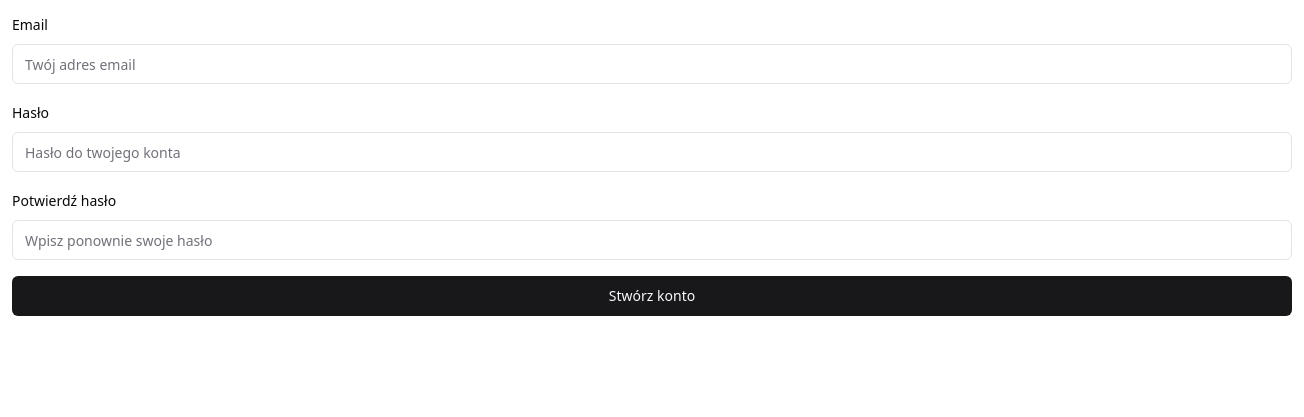
Test: SignUpForm › should display EMAIL_INVALID_MESSAGE if the user submitted form with an invalid email
This screenshot has width=1304, height=417.
Type "invalid_email@d" into the field with test id "email-input" at (652, 64), box [12, 44, 1292, 84]
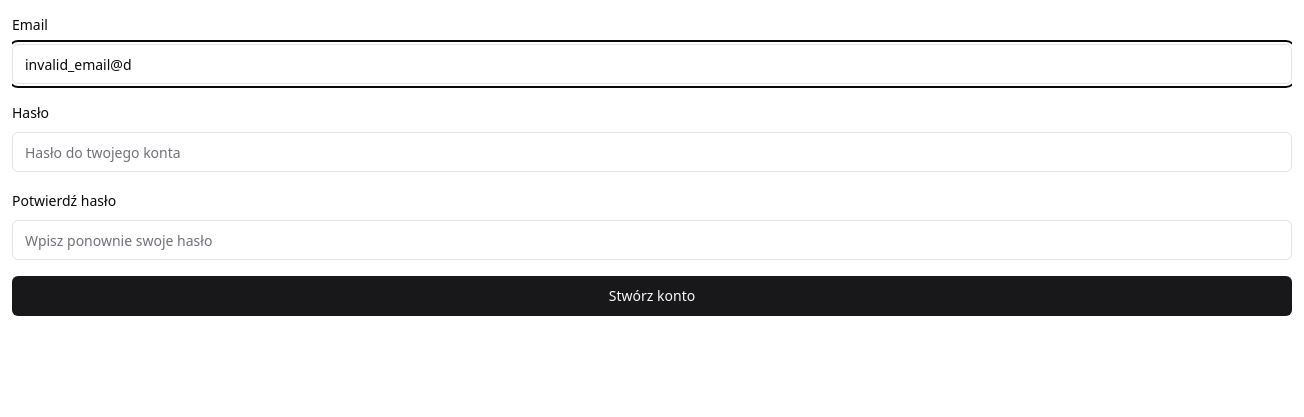
Click the button with test id "submit-btn" at (652, 296), box [12, 276, 1292, 316]
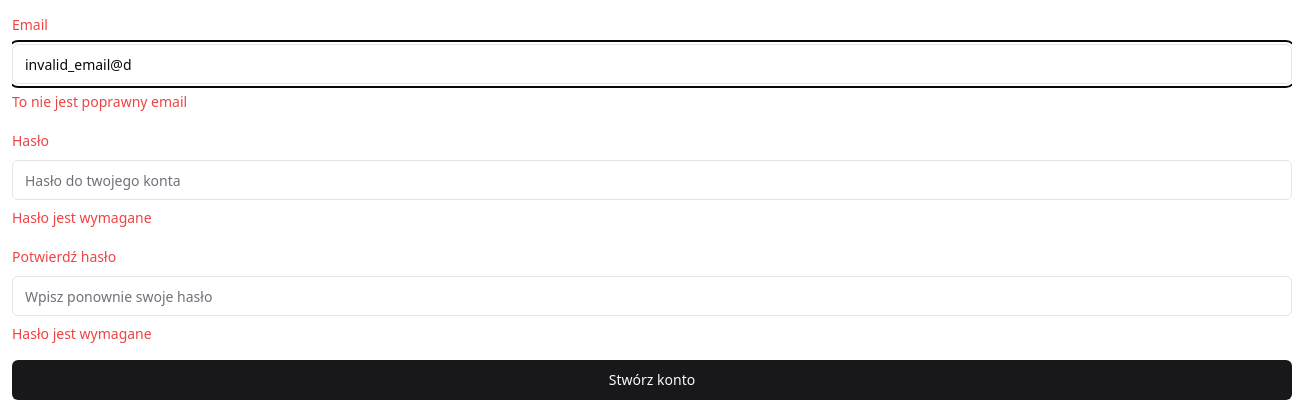
Expected: the text with test id "email-errors" reads "To nie jest poprawny email", [12, 92, 187, 111]
